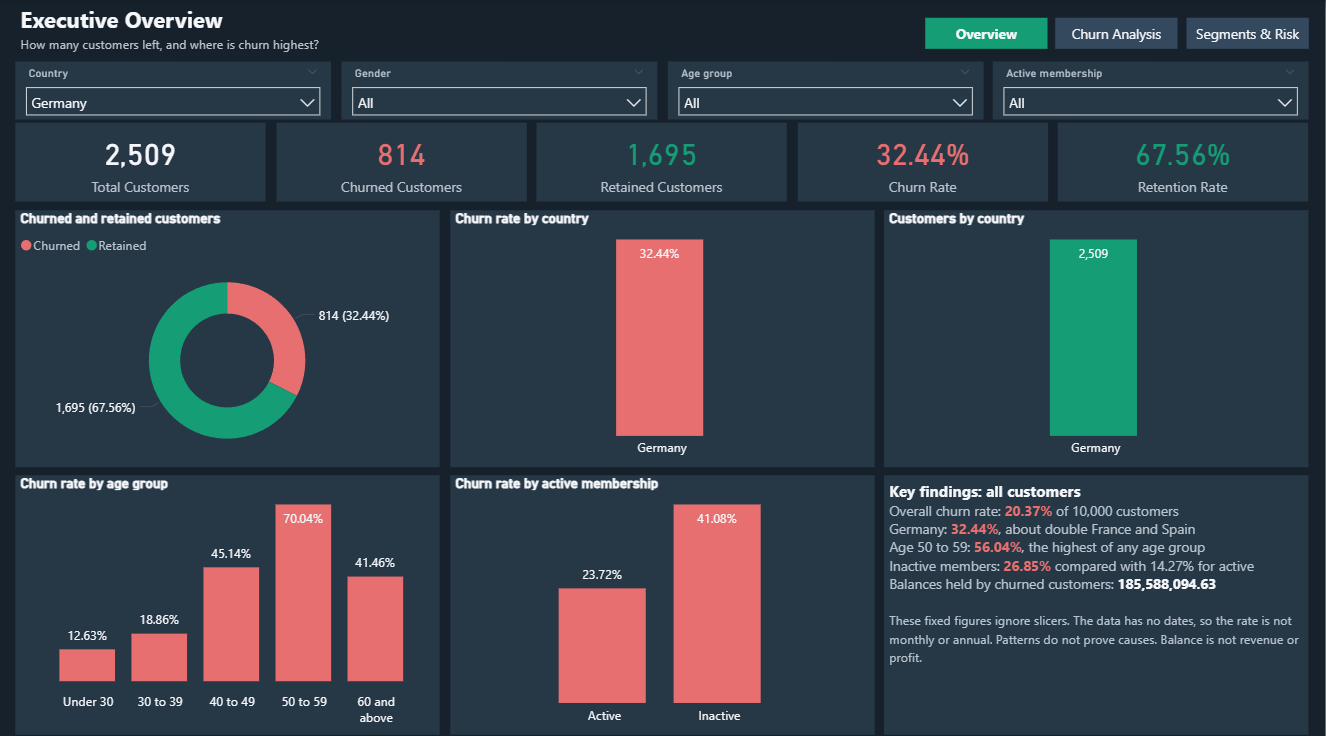

This screenshot's page, from the dashboard's own definition file:
{"tool":"powerbi","page":{"name":"Executive Overview","canvas":[1280,720],"ordinal":0},"visuals":[{"type":"textbox","box":[16,0,800,60],"z":100},{"type":"actionButton","box":[894,18,118,30],"z":200},{"type":"actionButton","box":[1020,18,118,30],"z":300},{"type":"actionButton","box":[1146,18,118,30],"z":400},{"type":"slicer","fields":{"Values":["bank_customers.country"]},"box":[16,60,304.5,56],"z":500},{"type":"slicer","fields":{"Values":["bank_customers.gender"]},"box":[330.5,60,304.5,56],"z":600},{"type":"slicer","fields":{"Values":["bank_customers.age_group"]},"box":[645,60,304.5,56],"z":700},{"type":"slicer","fields":{"Values":["bank_customers.Membership Status"]},"box":[959.5,60,304.5,56],"z":800},{"type":"card","fields":{"Values":["bank_customers.Total Customers"]},"box":[16,120,241.6,76],"z":900},{"type":"card","fields":{"Values":["bank_customers.Churned Customers"]},"box":[267.6,120,241.6,76],"z":1000},{"type":"card","fields":{"Values":["bank_customers.Retained Customers"]},"box":[519.2,120,241.6,76],"z":1100},{"type":"card","fields":{"Values":["bank_customers.Churn Rate"]},"box":[770.8,120,241.6,76],"z":1200},{"type":"card","fields":{"Values":["bank_customers.Retention Rate"]},"box":[1022.4,120,241.6,76],"z":1300},{"type":"donutChart","title":"Churned and retained customers","fields":{"Category":["bank_customers.Customer Status"],"Y":["bank_customers.Total Customers"]},"box":[16,204,409.3,248],"z":1400},{"type":"clusteredColumnChart","title":"Churn rate by country","fields":{"Category":["bank_customers.country"],"Y":["bank_customers.Churn Rate"]},"box":[435.3,204,409.3,248],"z":1500},{"type":"clusteredColumnChart","title":"Customers by country","fields":{"Category":["bank_customers.country"],"Y":["bank_customers.Total Customers"]},"box":[854.7,204,409.3,248],"z":1600},{"type":"clusteredColumnChart","title":"Churn rate by age group","fields":{"Category":["bank_customers.age_group"],"Y":["bank_customers.Churn Rate"]},"box":[16,460,409.3,250],"z":1700},{"type":"clusteredColumnChart","title":"Churn rate by active membership","fields":{"Category":["bank_customers.Membership Status"],"Y":["bank_customers.Churn Rate"]},"box":[435.3,460,409.3,250],"z":1800},{"type":"textbox","box":[854.7,460,409.3,250],"z":1900}]}

Visuals, with their boxes in screenshot pixels (x1, y1, x2, y2), scaled from the page's 1280x720 canvas onto the 1326x736 screenshot:
textbox: (x1=17, y1=0, x2=845, y2=61)
actionButton: (x1=926, y1=18, x2=1048, y2=49)
actionButton: (x1=1057, y1=18, x2=1179, y2=49)
actionButton: (x1=1187, y1=18, x2=1309, y2=49)
slicer - bank_customers.country: (x1=17, y1=61, x2=332, y2=119)
slicer - bank_customers.gender: (x1=342, y1=61, x2=658, y2=119)
slicer - bank_customers.age_group: (x1=668, y1=61, x2=984, y2=119)
slicer - bank_customers.Membership Status: (x1=994, y1=61, x2=1309, y2=119)
card - bank_customers.Total Customers: (x1=17, y1=123, x2=267, y2=200)
card - bank_customers.Churned Customers: (x1=277, y1=123, x2=527, y2=200)
card - bank_customers.Retained Customers: (x1=538, y1=123, x2=788, y2=200)
card - bank_customers.Churn Rate: (x1=799, y1=123, x2=1049, y2=200)
card - bank_customers.Retention Rate: (x1=1059, y1=123, x2=1309, y2=200)
"Churned and retained customers" donutChart: (x1=17, y1=209, x2=441, y2=462)
"Churn rate by country" clusteredColumnChart: (x1=451, y1=209, x2=875, y2=462)
"Customers by country" clusteredColumnChart: (x1=885, y1=209, x2=1309, y2=462)
"Churn rate by age group" clusteredColumnChart: (x1=17, y1=470, x2=441, y2=726)
"Churn rate by active membership" clusteredColumnChart: (x1=451, y1=470, x2=875, y2=726)
textbox: (x1=885, y1=470, x2=1309, y2=726)
